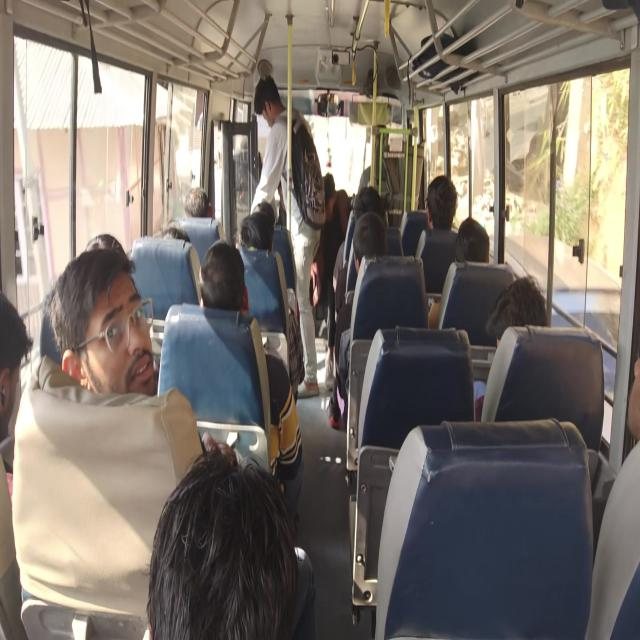person: (145, 449, 303, 636), (44, 244, 136, 364), (0, 288, 32, 426), (486, 275, 548, 343), (198, 238, 247, 314), (424, 174, 458, 232), (356, 215, 390, 270), (455, 216, 490, 263), (240, 206, 274, 253), (352, 185, 386, 227), (626, 354, 640, 444), (254, 74, 280, 116), (84, 233, 125, 256), (184, 187, 213, 219), (157, 222, 187, 242), (254, 200, 276, 224)
